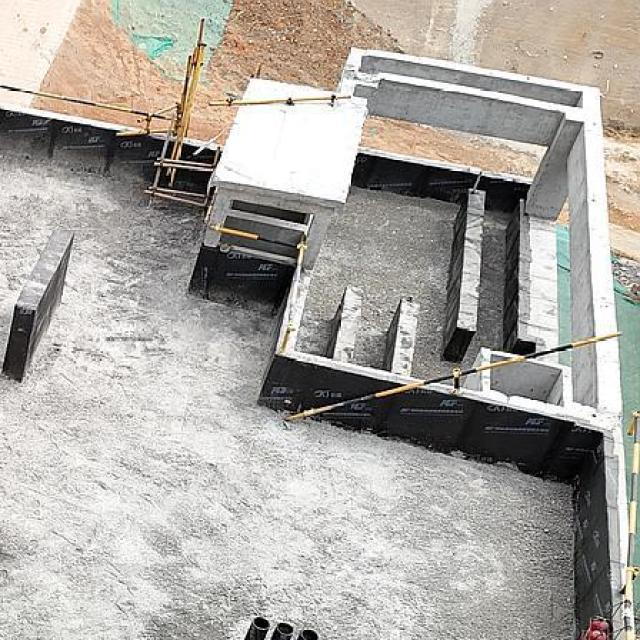edge_guardrail: (284, 331, 622, 424), (208, 223, 312, 350), (0, 84, 179, 137), (617, 410, 640, 640), (209, 94, 350, 106)
